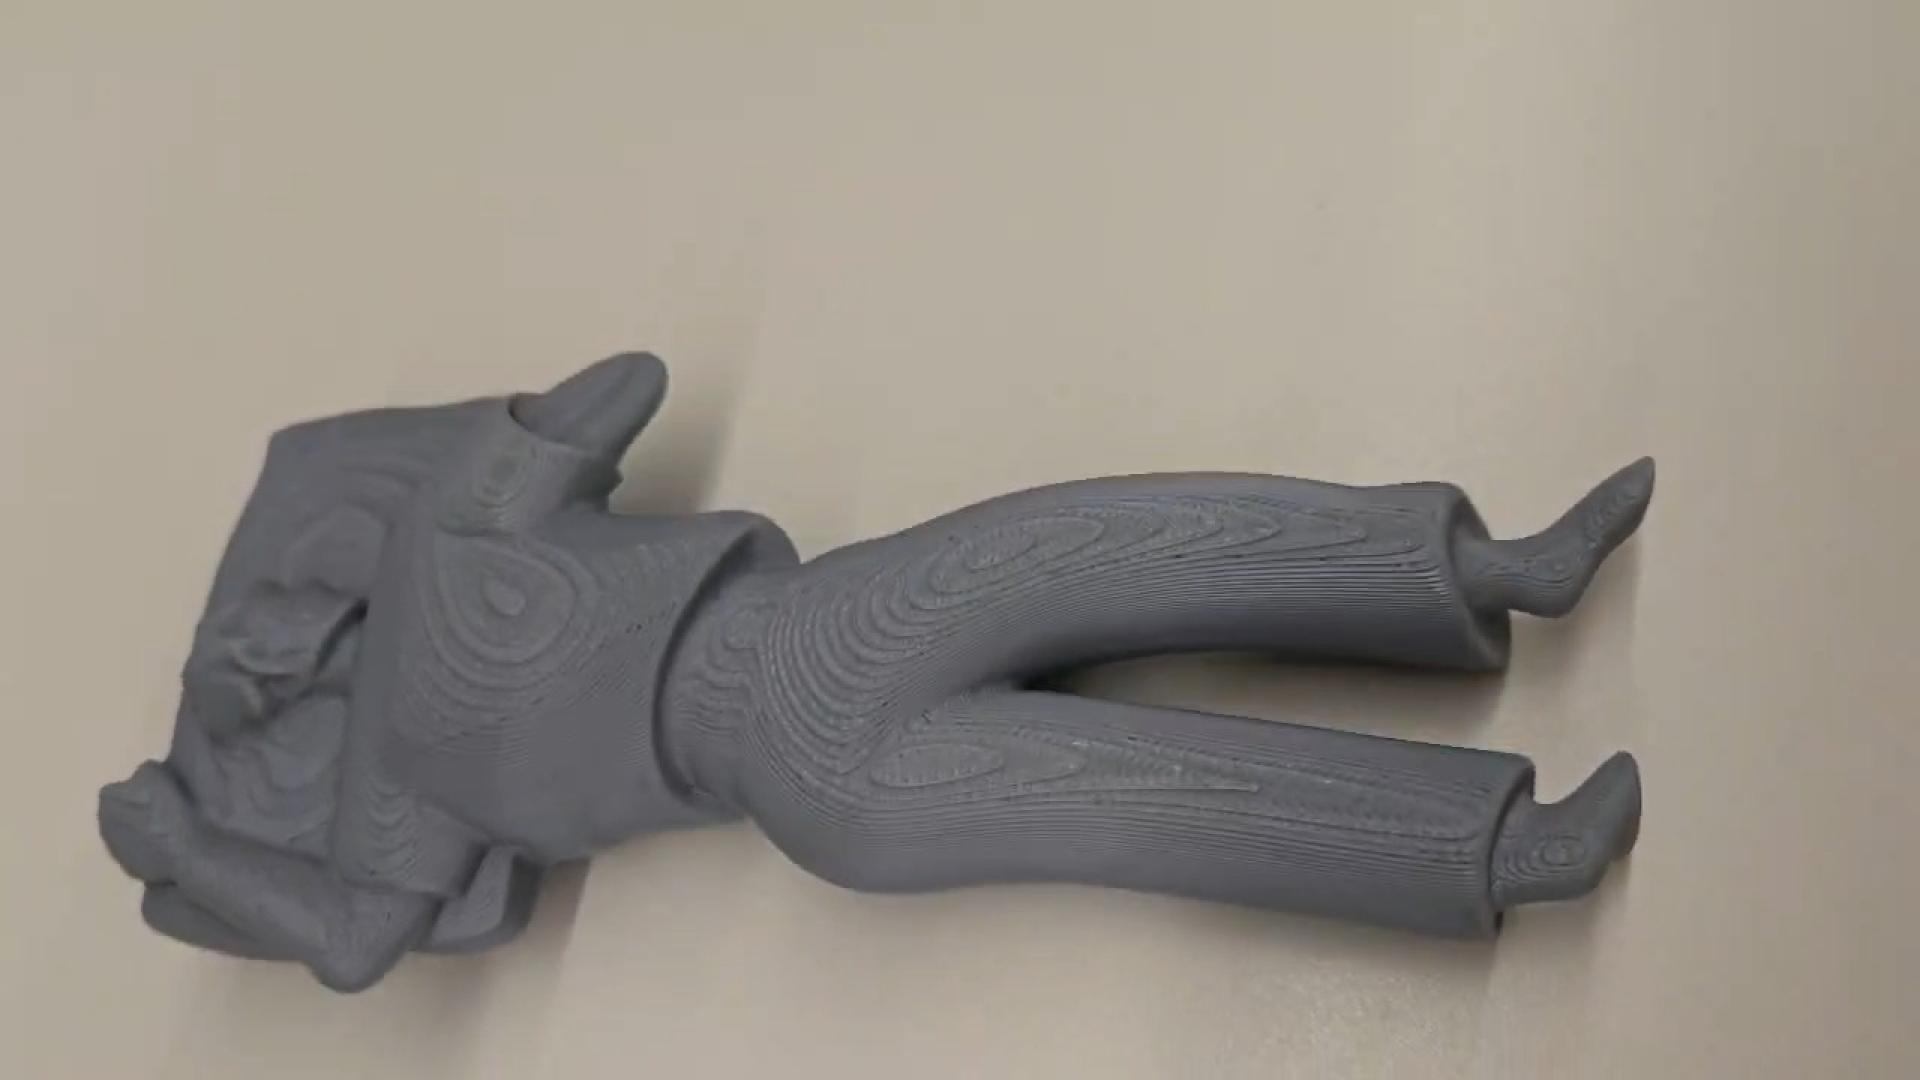Bad-style: (99, 342, 1668, 1004)
